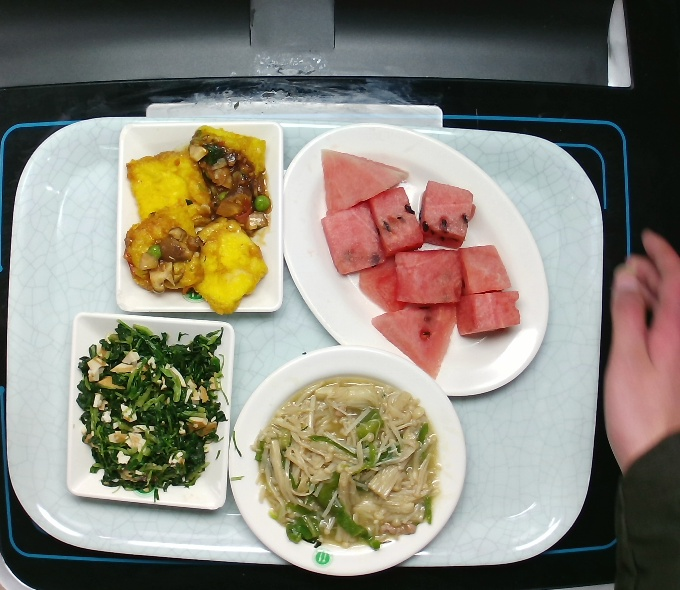wcq-CuiPiDouFu: (120, 123, 276, 317)
wcq-JinZhenGu: (251, 373, 444, 552)
wcq-MaLanTouChaoDouGan: (74, 317, 232, 506)
wcq-XiGua: (313, 145, 525, 381)
